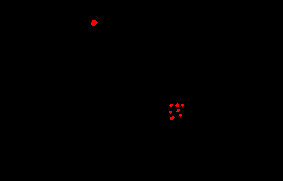Target: (91, 20, 98, 26), (170, 116, 175, 120), (175, 103, 179, 107), (169, 104, 173, 107), (176, 109, 180, 112), (181, 104, 184, 107), (169, 111, 172, 114), (179, 114, 182, 117)
